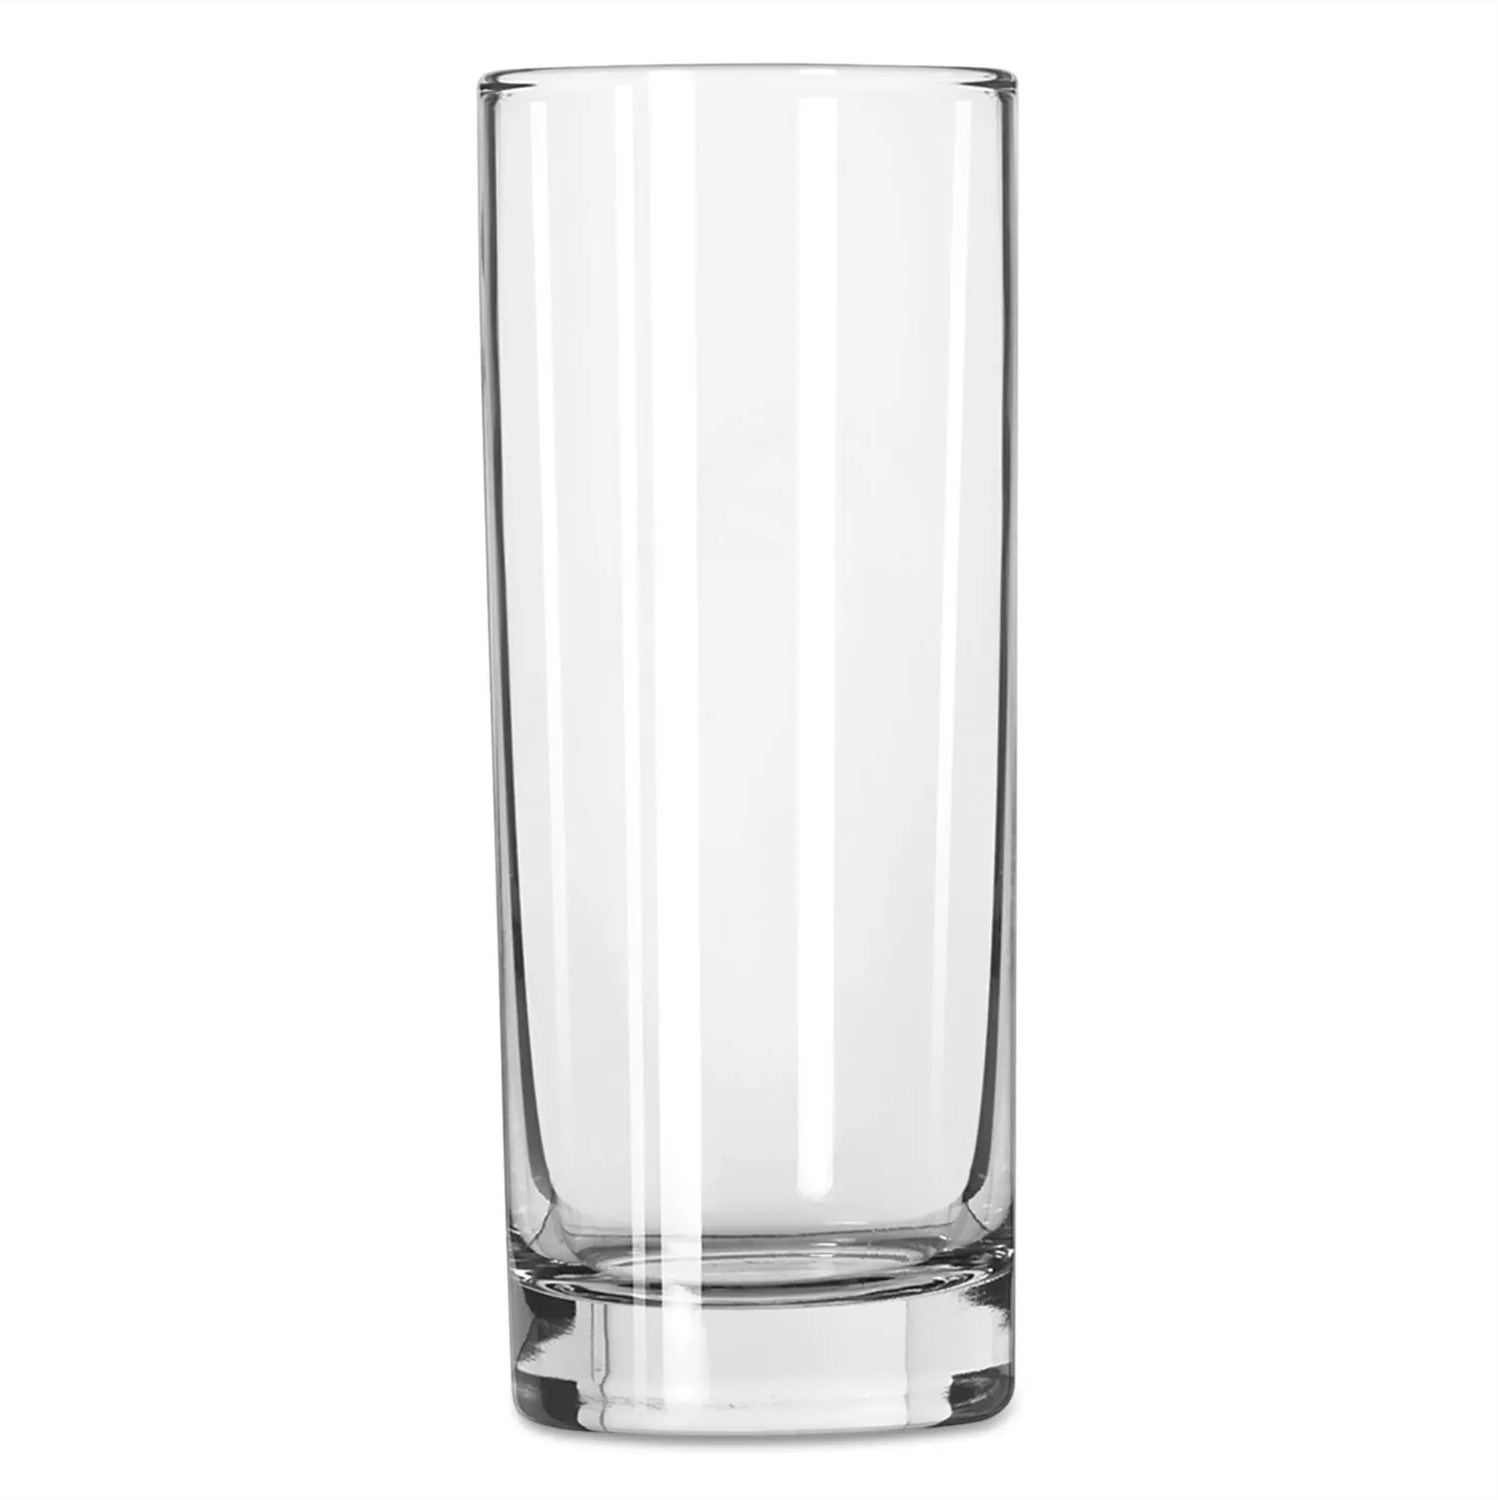glass: (473, 60, 1022, 1442)
